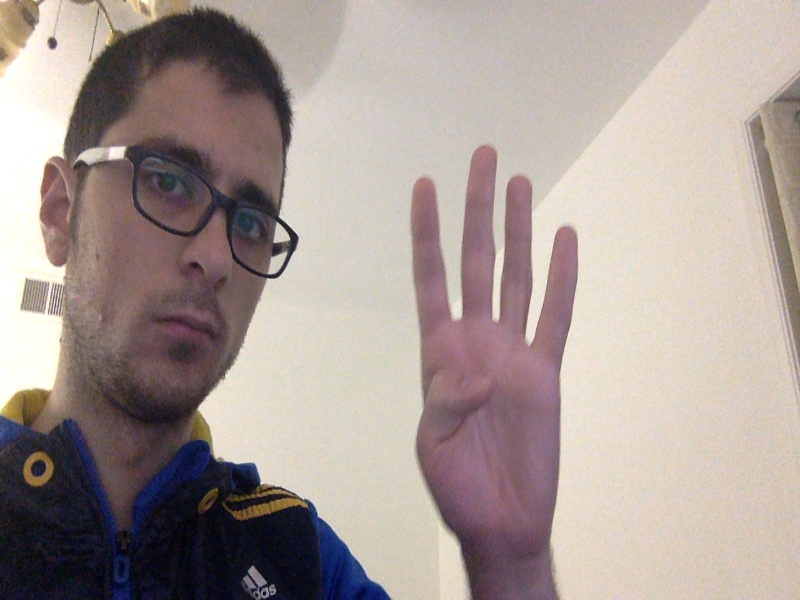4-hand: (409, 146, 580, 556)
